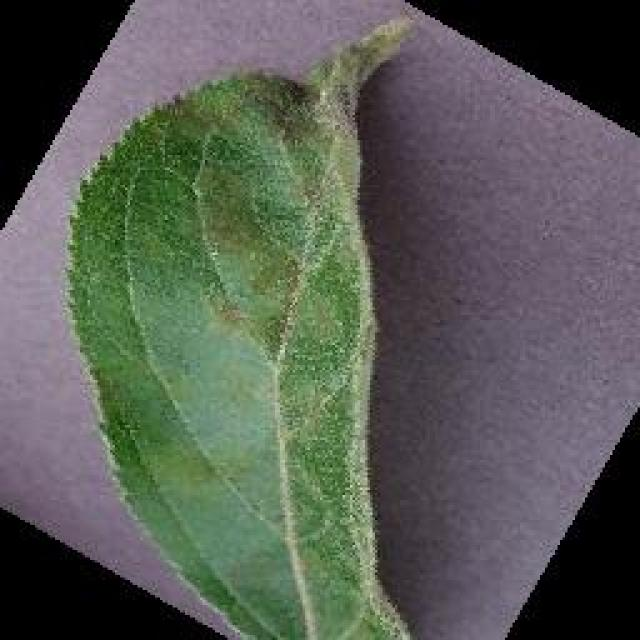apple scab disease: (58, 10, 432, 638)
